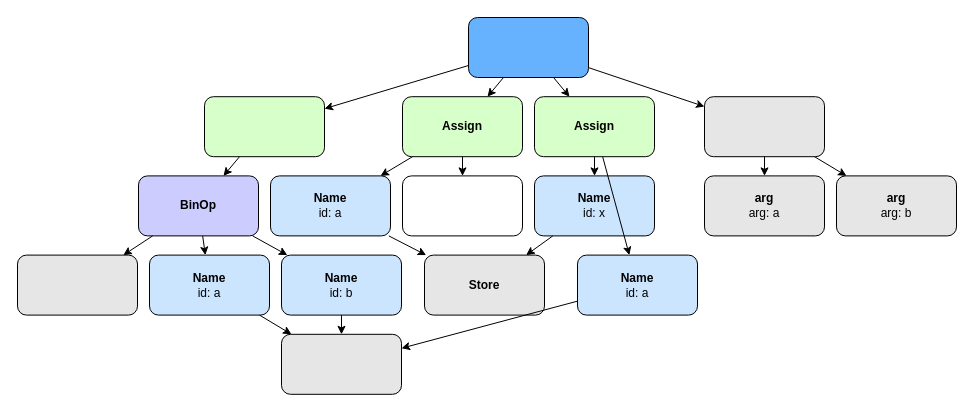
Image size: 974x412. Some labels were removed from this diagram. Each missing label, with the box of its shape:
Add: (16, 254, 138, 315)
arguments: (704, 96, 824, 157)
Constant value: 10: (402, 175, 522, 236)
FunctionDef fun_name: plus: (468, 16, 588, 78)
Load: (280, 333, 402, 394)
Return: (204, 96, 324, 157)
